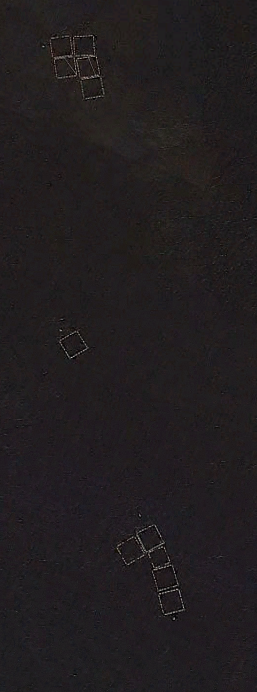square: (56, 324, 97, 365), (111, 529, 151, 569), (135, 518, 173, 557), (65, 22, 100, 64), (70, 46, 107, 84), (147, 563, 181, 596), (143, 542, 178, 574), (154, 587, 190, 617), (41, 34, 78, 62), (48, 51, 79, 81), (81, 74, 108, 103)
